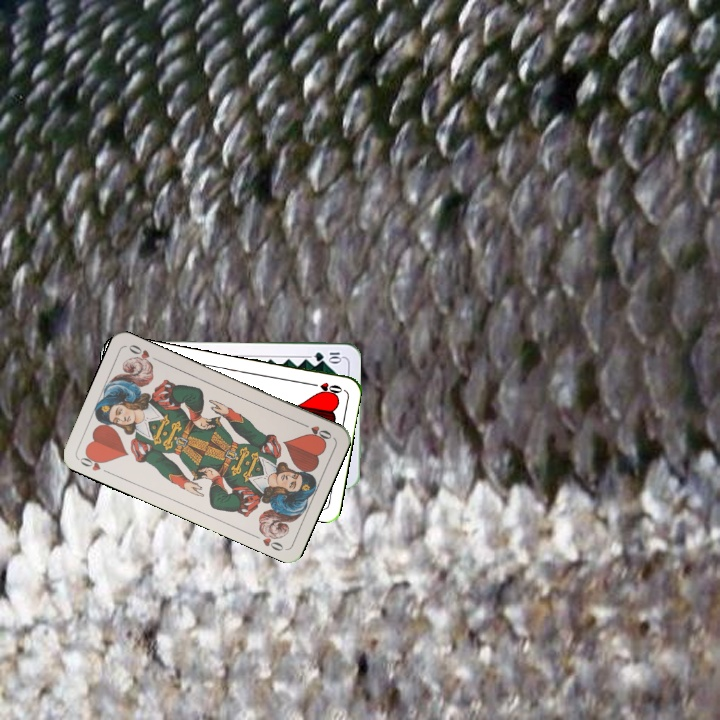G10: (310, 348, 344, 363)
HO: (75, 449, 114, 477), (296, 419, 334, 443), (305, 378, 345, 396)
